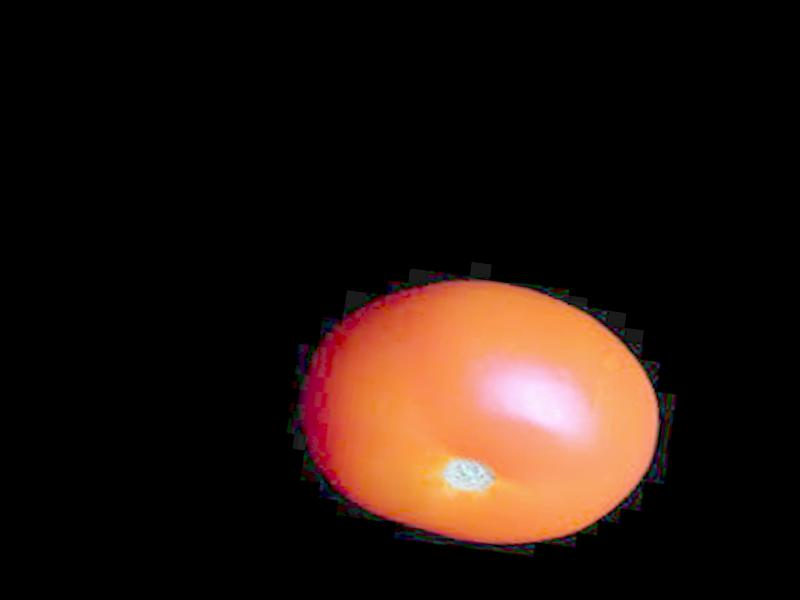Tomato: (288, 260, 674, 563)
